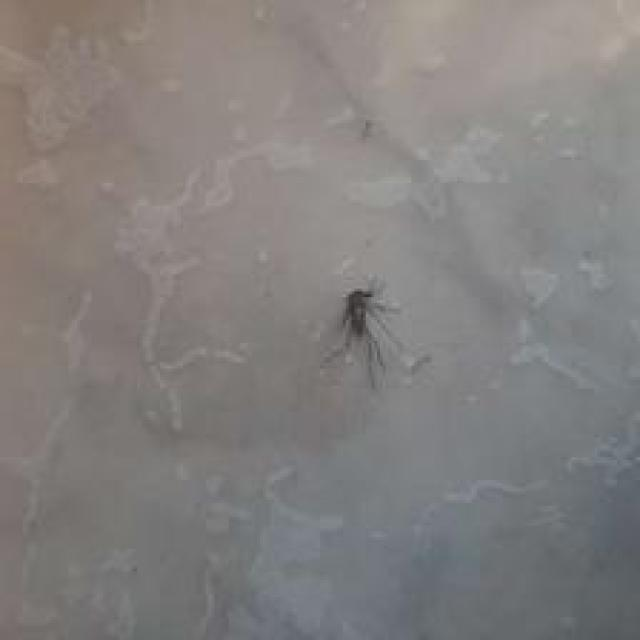Aedes albopictus: (319, 274, 430, 392)
